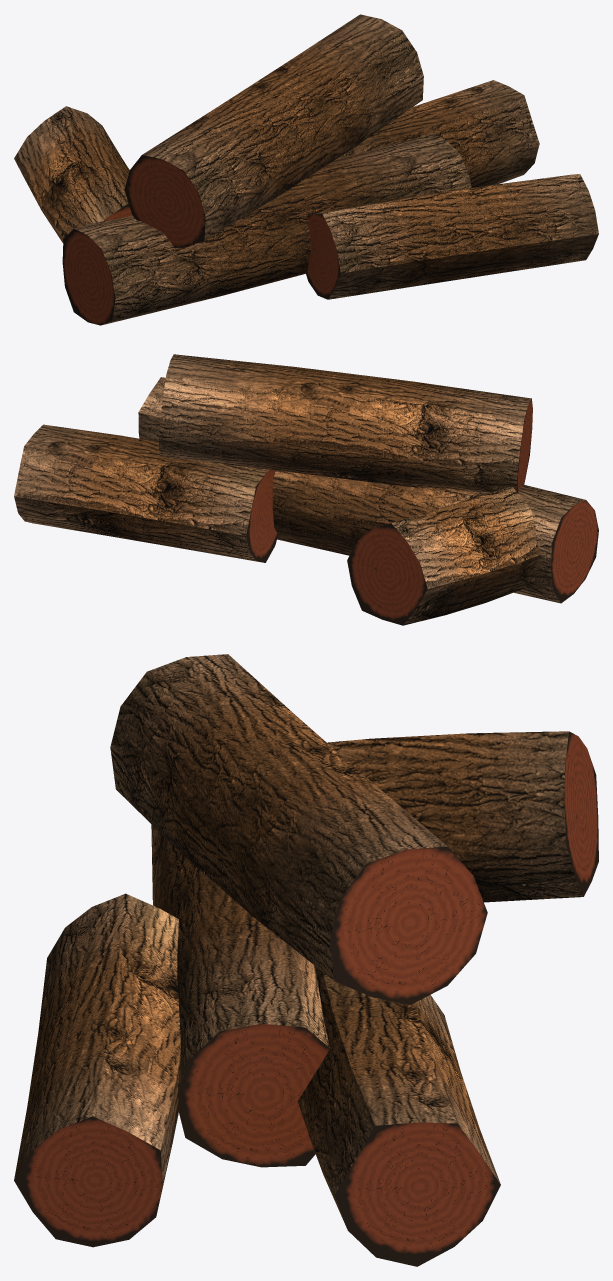
Rendered from mm7_deco_dec24x.glb.
3 renders of one model, top to bottom at view 1: azimuth 30°, elevation 25°; view 2: azimuth 150°, elevation 25°; view 3: azimuth 270°, elevation 25°, orthographic. The views are drawn at different scales.
Parts seen in each view (by area): view 1: BurnedFire; view 2: BurnedFire; view 3: BurnedFire.
Part boxes in pixels (<box>): BurnedFire: <box>14,14,598,325</box>; BurnedFire: <box>14,354,598,625</box>; BurnedFire: <box>14,654,598,1266</box>.
Bounding box in the file's own units: 0.8063 × 0.3065 × 0.5121.
Materials: 2 (2 with a texture image).
